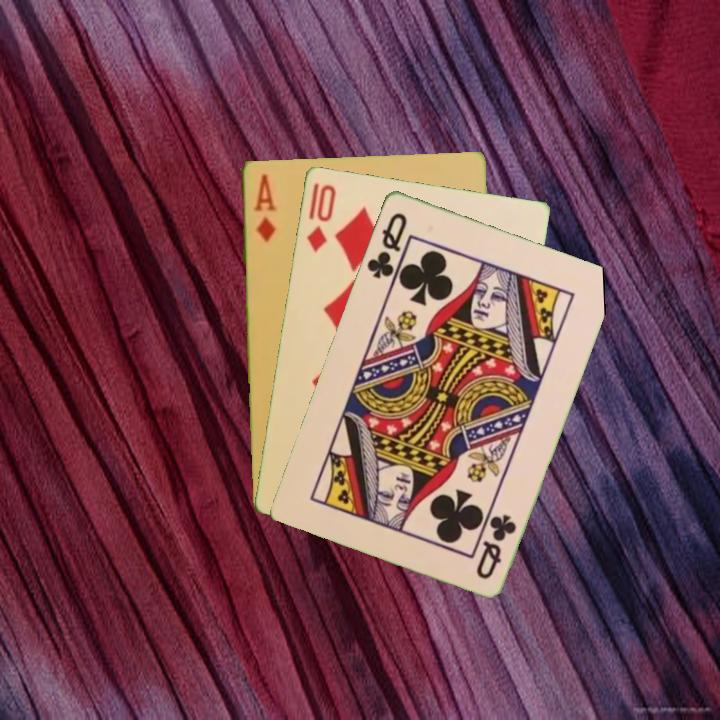10d: (303, 180, 339, 254)
Ad: (249, 169, 278, 245)
Qc: (363, 208, 410, 281), (472, 510, 519, 582)
